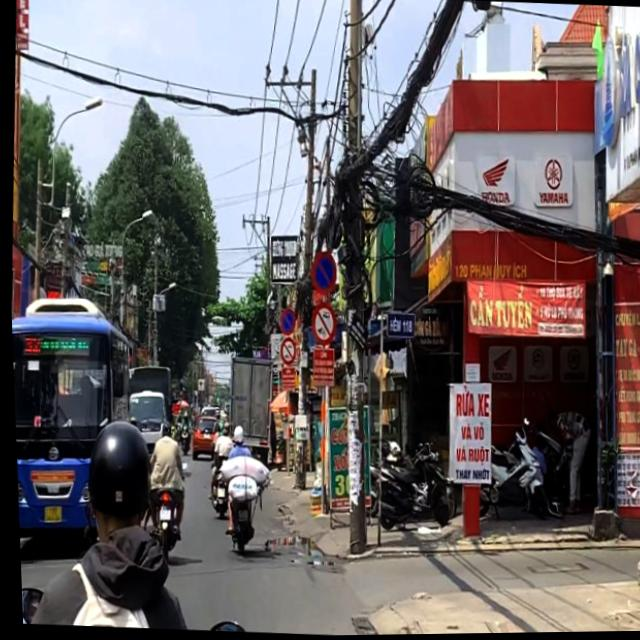Cam do xe: (307, 251, 336, 297), (276, 308, 294, 337)
